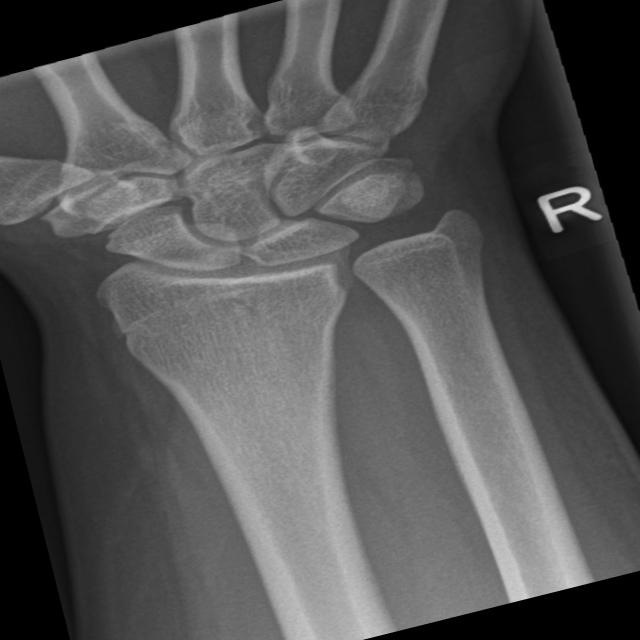fracture: (95, 264, 274, 352), (339, 218, 484, 287)
